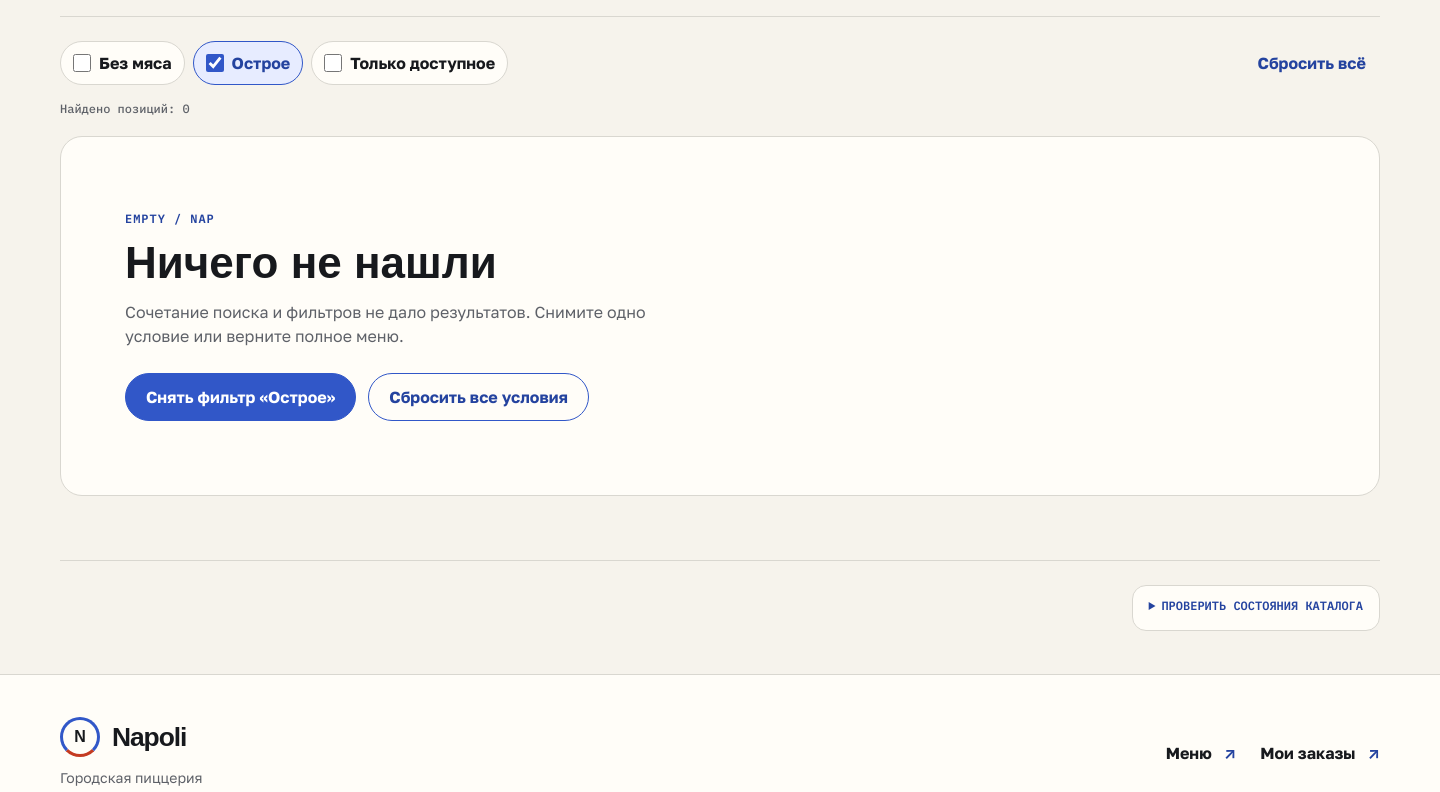
Scenario: Napoli owned menu › intersects canonical filters, announces count and recovers from no results
(page scrolled)
expect the heading "Ничего не нашли" is shown: met, box x1=125 y1=238 x2=497 y2=288
expect the checkbox labelled "Острое" is checked: met, box x1=206 y1=54 x2=224 y2=72
Click the button "Снять фильтр «Острое»".
click(241, 397)  # box x1=125 y1=373 x2=356 y2=421
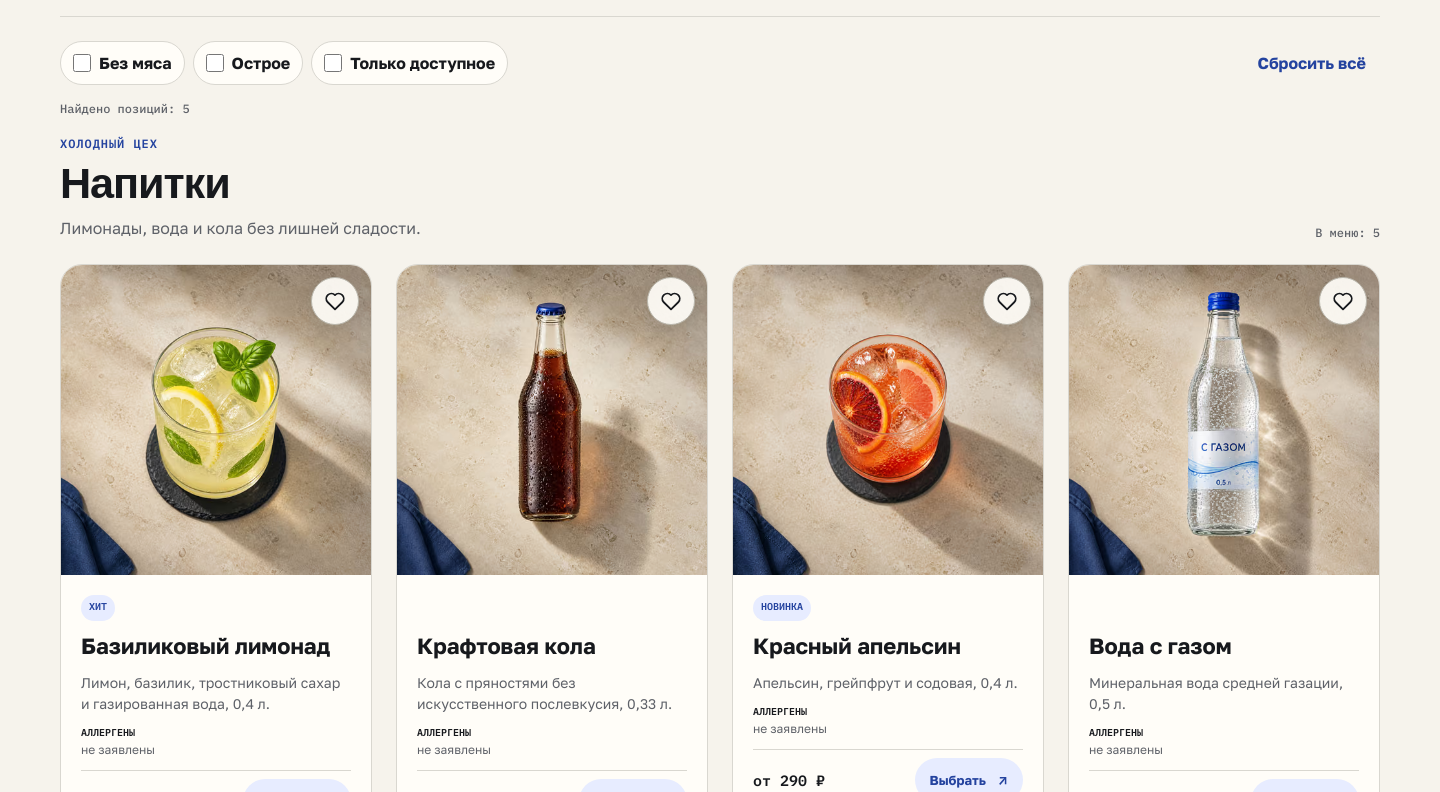
expect the heading "Базиликовый лимонад" is shown: met, box x1=81 y1=633 x2=351 y2=660
expect the message reads "Найдено позиций: 5": met, box x1=60 y1=101 x2=190 y2=116
